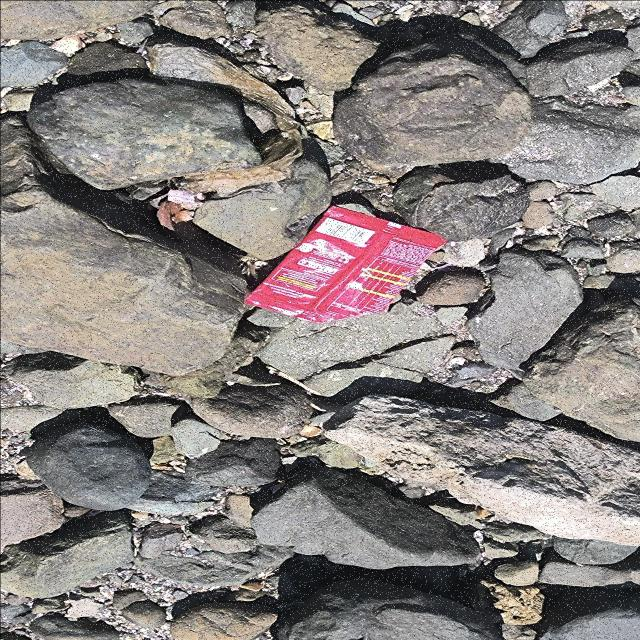plastic_waste: (242, 206, 448, 325)
